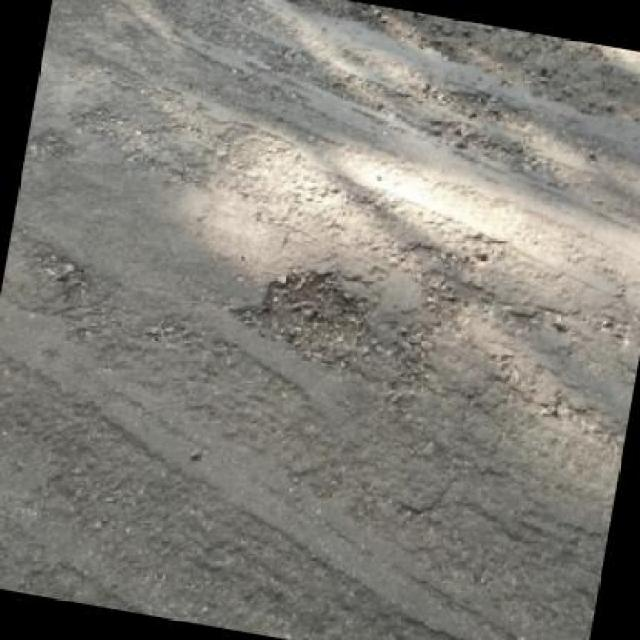pothole1: (224, 252, 388, 374), (425, 114, 513, 163), (436, 82, 524, 126)
